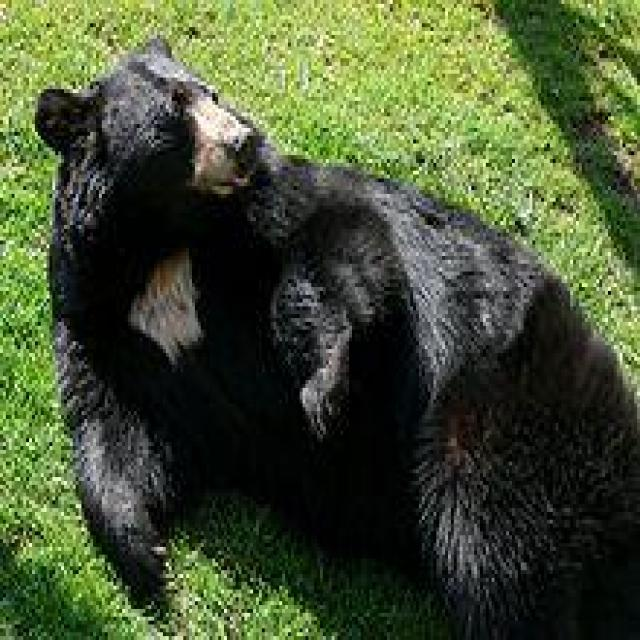Bear: (32, 39, 640, 640)
